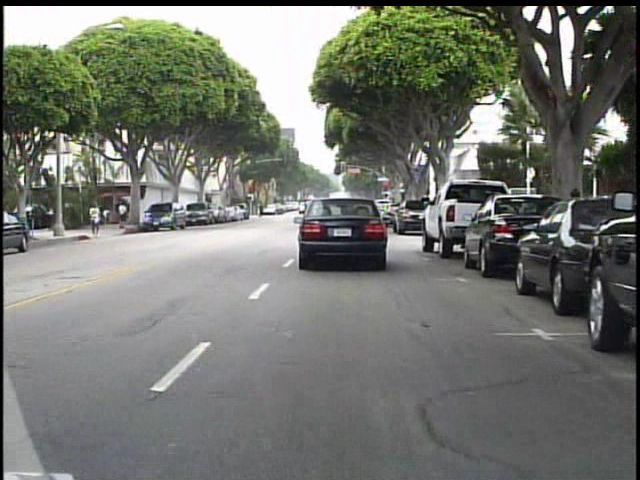person: (87, 197, 105, 238), (118, 198, 131, 229), (254, 200, 269, 223)
